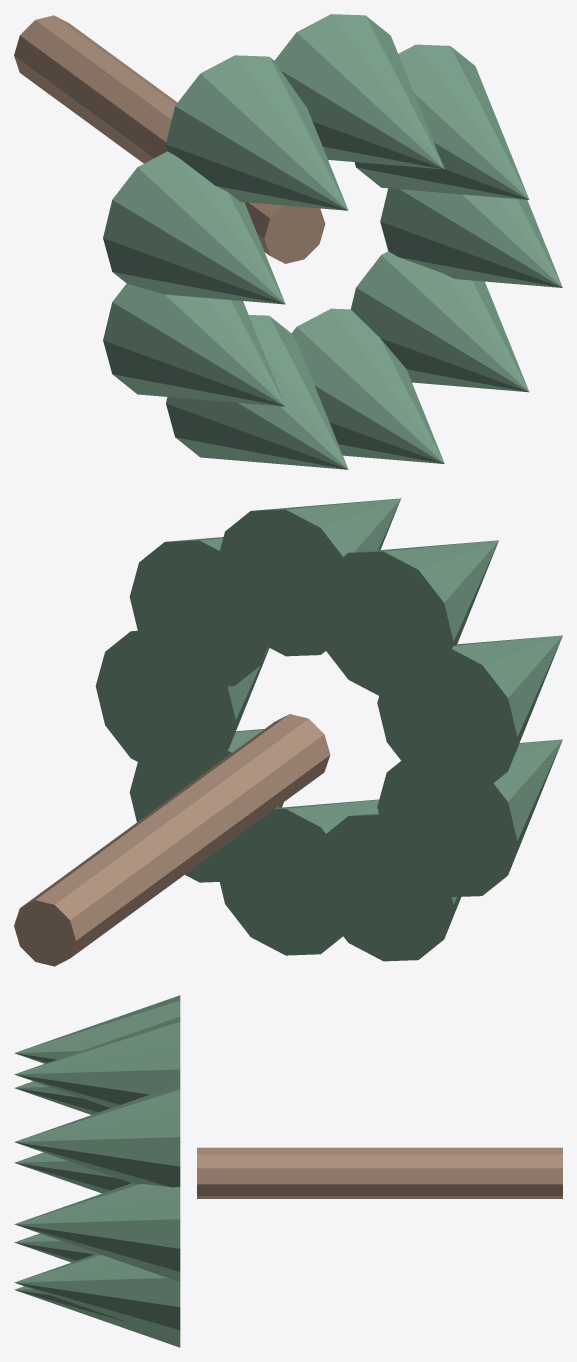
Rendered from palm_tree.glb.
The picture shows the model from 3 angles, top to bottom: view 1: azimuth 30°, elevation 25°; view 2: azimuth 150°, elevation 25°; view 3: azimuth 270°, elevation 25°; orthographic projection. The views are drawn at different scales.
Visible parts, largest first — view 1: green, wood; view 2: green, wood; view 3: green, wood.
Part boxes in pixels (x1=…): green: x1=103, y1=14, x2=562, y2=469; wood: x1=14, y1=15, x2=325, y2=263; green: x1=95, y1=498, x2=562, y2=961; wood: x1=14, y1=714, x2=330, y2=966; green: x1=14, y1=995, x2=180, y2=1347; wood: x1=197, y1=1147, x2=562, y2=1198.
Bounding box in the file's own units: 4.21 × 4.26 × 6.6.
